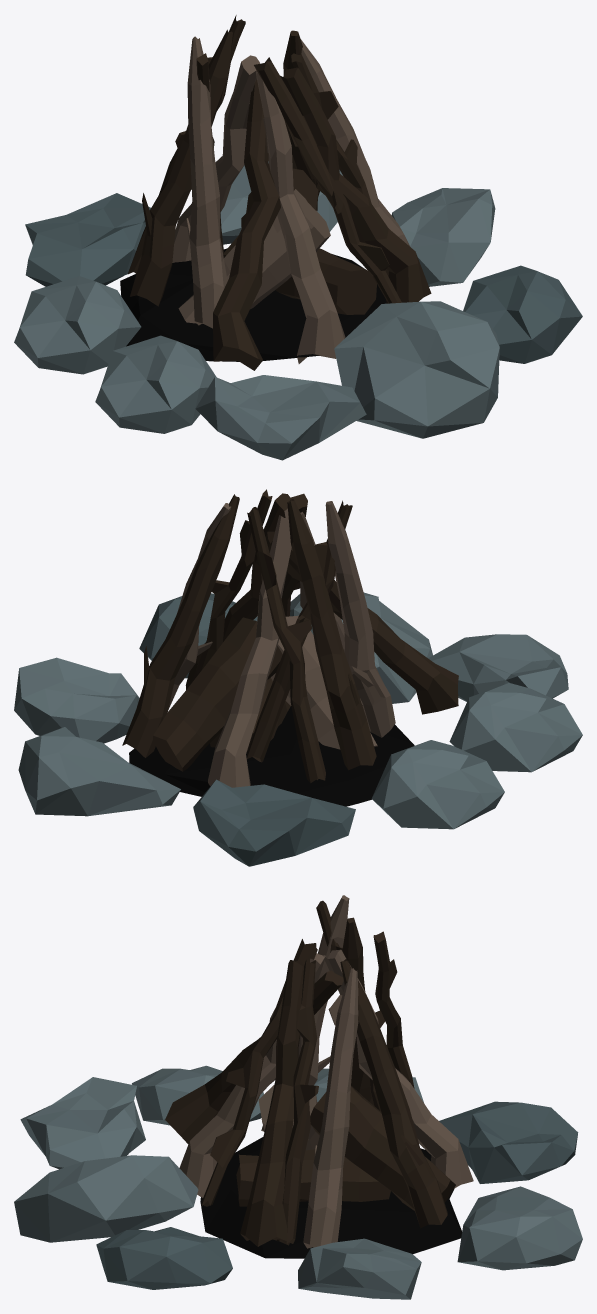
Rendered from Fire.fbx.
3 renders of one model, top to bottom at view 1: azimuth 30°, elevation 25°; view 2: azimuth 150°, elevation 25°; view 3: azimuth 270°, elevation 25°, orthographic. The views are drawn at different scales.
Parts seen in each view (by area): view 1: Fire.002; view 2: Fire.002; view 3: Fire.002.
Part boxes in pixels (bbox=[...]): Fire.002: bbox=[14, 15, 582, 460]; Fire.002: bbox=[14, 489, 582, 866]; Fire.002: bbox=[14, 895, 582, 1299].
Bounding box in the file's own units: 2.36 × 1.43 × 2.5.
